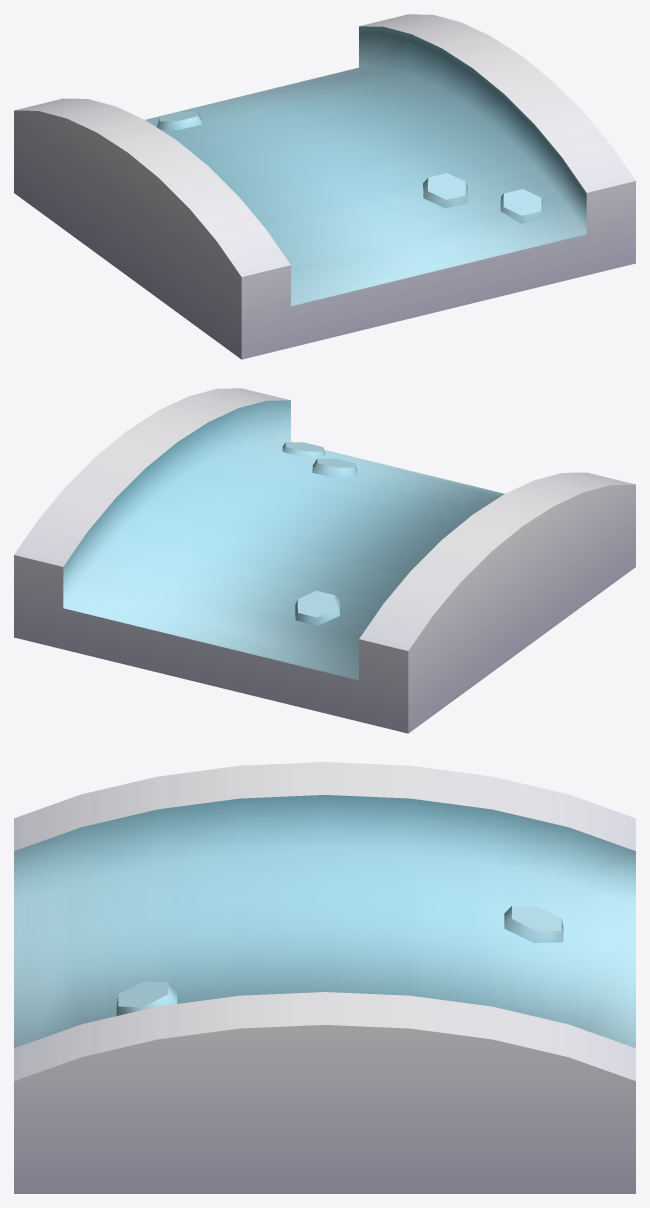
Rendered from snow-tile-bump.fbx.
The picture shows the model from 3 angles, top to bottom: view 1: azimuth 30°, elevation 25°; view 2: azimuth 150°, elevation 25°; view 3: azimuth 270°, elevation 25°; orthographic projection. The views are drawn at different scales.
Parts seen in each view (by area): view 1: snow-tile-bump; view 2: snow-tile-bump; view 3: snow-tile-bump.
Boxes of the visible parts, x1=… form: snow-tile-bump: x1=14, y1=14, x2=635, y2=359; snow-tile-bump: x1=14, y1=388, x2=635, y2=733; snow-tile-bump: x1=14, y1=762, x2=635, y2=1193.
Size of the model in its own units: 100 by 30 by 100.
